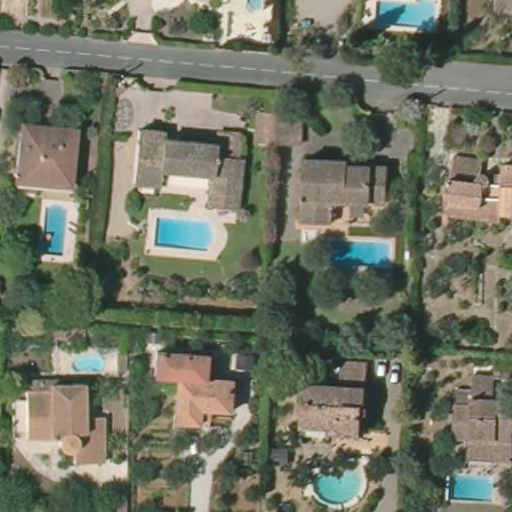pool: (299, 226, 399, 277), (305, 454, 367, 501), (153, 214, 218, 252), (368, 1, 448, 30), (447, 466, 506, 503), (37, 202, 73, 262), (64, 347, 106, 374)
